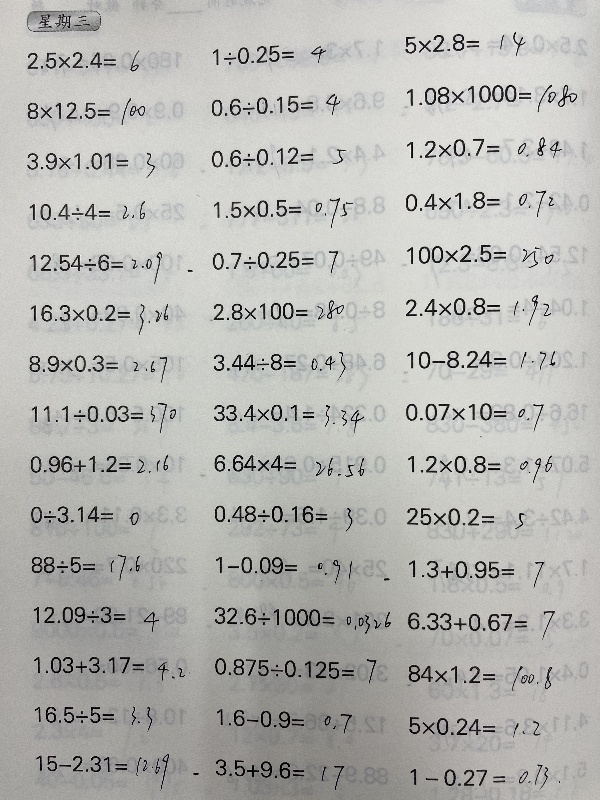equation: (215, 600, 394, 639), (400, 79, 581, 116), (30, 749, 172, 795), (401, 399, 547, 441), (400, 292, 553, 330), (28, 398, 180, 436), (213, 547, 361, 586), (403, 660, 556, 697), (26, 248, 166, 288), (210, 450, 368, 485), (26, 299, 171, 337), (25, 351, 172, 388), (209, 194, 356, 231), (209, 654, 377, 686), (403, 608, 555, 643), (402, 239, 557, 273), (401, 134, 565, 166), (209, 397, 366, 430), (210, 757, 353, 793), (405, 556, 548, 592), (400, 187, 556, 220), (406, 760, 564, 792), (210, 501, 357, 535), (206, 143, 350, 177), (404, 451, 554, 483), (29, 650, 188, 680), (23, 148, 161, 182), (209, 349, 349, 381), (404, 712, 542, 744), (30, 602, 161, 635), (207, 246, 341, 278), (22, 95, 148, 129), (400, 29, 529, 62), (402, 503, 530, 536), (402, 345, 557, 372), (30, 702, 155, 735), (207, 40, 330, 73), (211, 705, 354, 733), (206, 90, 343, 118), (26, 451, 172, 477), (209, 296, 348, 323), (26, 502, 141, 533), (28, 550, 143, 581), (23, 46, 142, 75), (25, 197, 148, 223)
